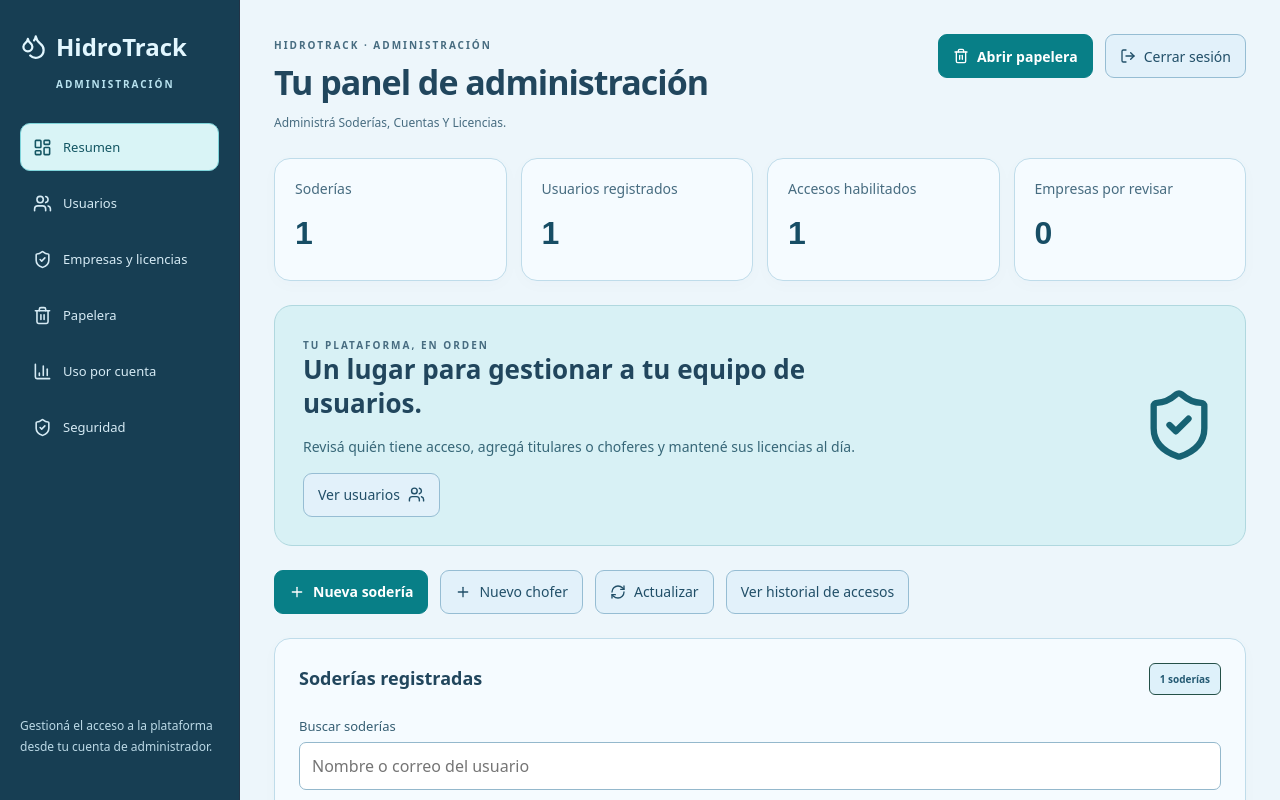
Test case: informa la actualización pendiente sin fingir que el chofer fue pausado
Click the button "Usuarios" at [120, 203], box top-left (20, 179), bottom-right (219, 227)
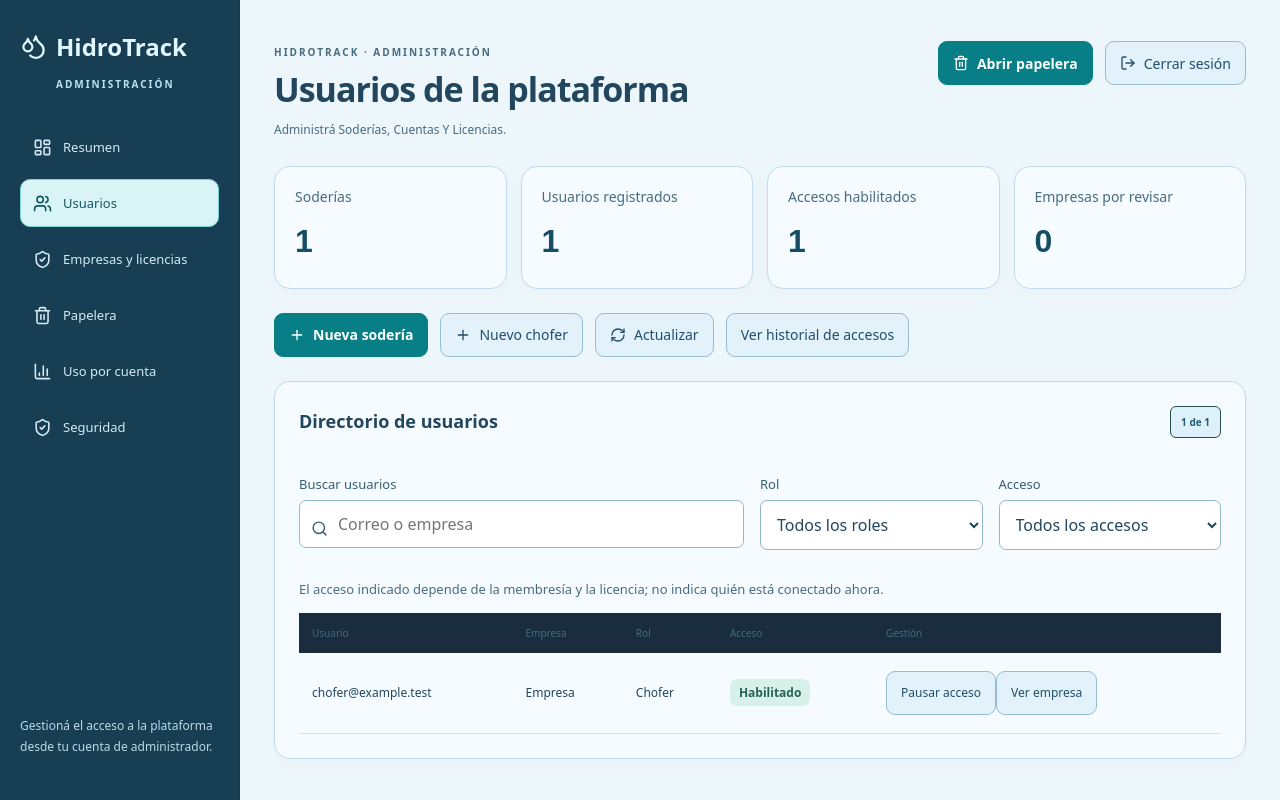
Click the button with aria-label "Pausar acceso de chofer@example.test" at [941, 693], box top-left (886, 671), bottom-right (996, 715)
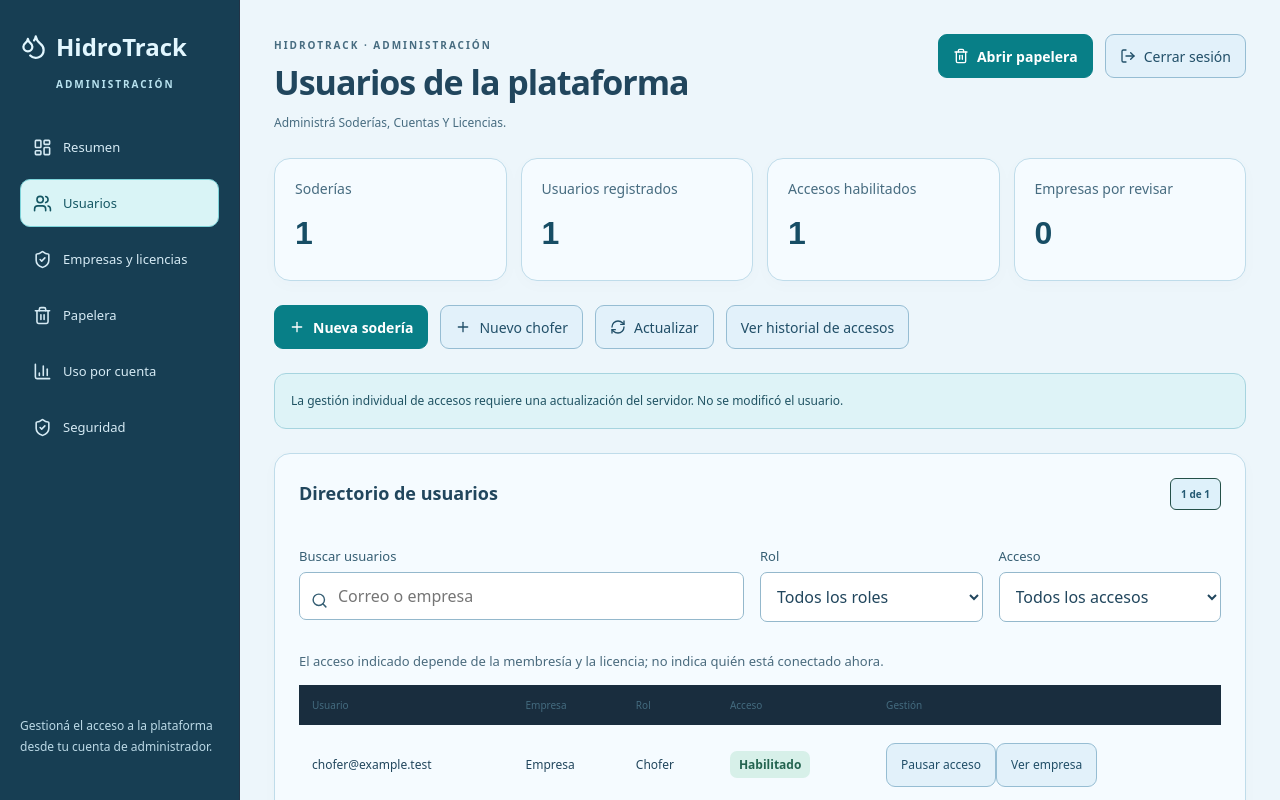
Expected: the button with aria-label "Pausar acceso de chofer@example.test" is shown, top-left (886, 743), bottom-right (996, 787)
Expected: the text "requiere una actualización del servidor" is shown, top-left (291, 392), bottom-right (843, 409)
